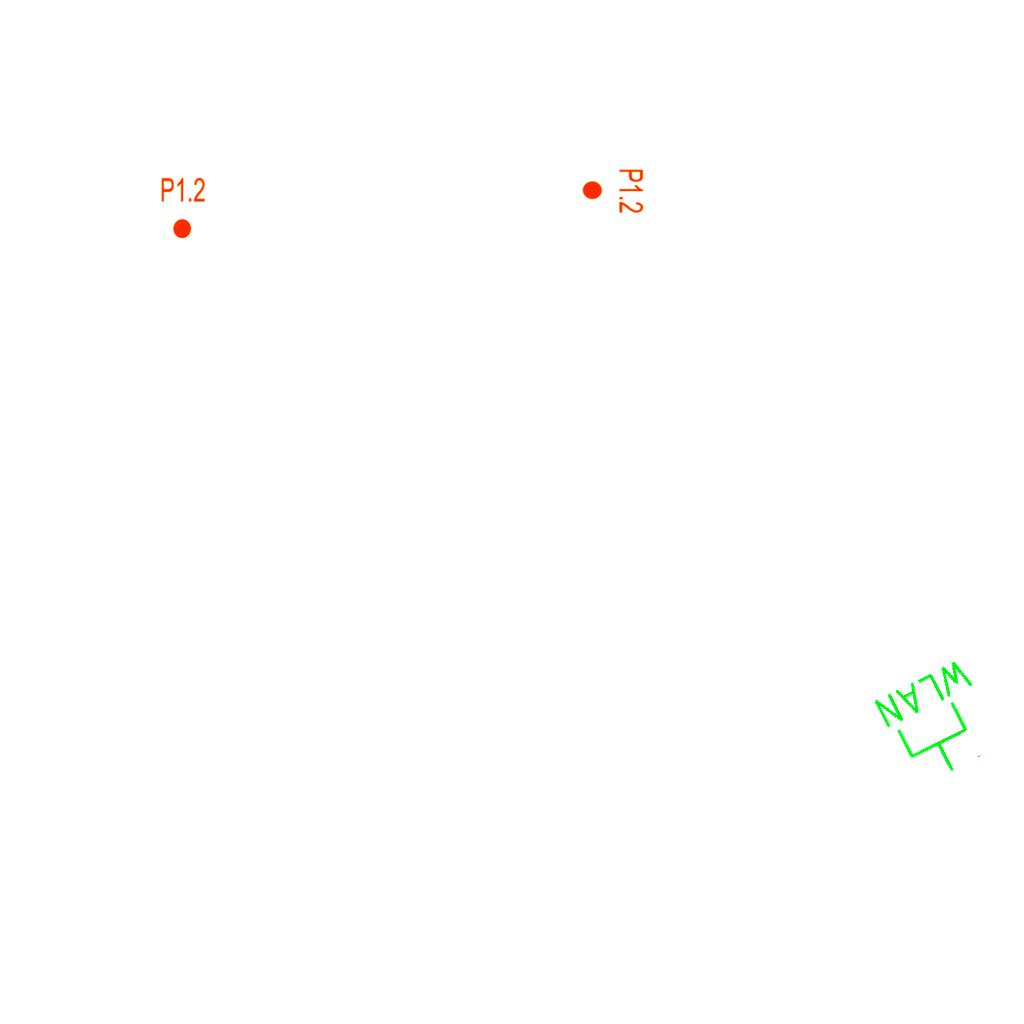Downlight_LED_Einbauleuchten_Flur: (160, 176, 206, 240), (581, 168, 645, 214)
WLAN: (868, 652, 1010, 793)
